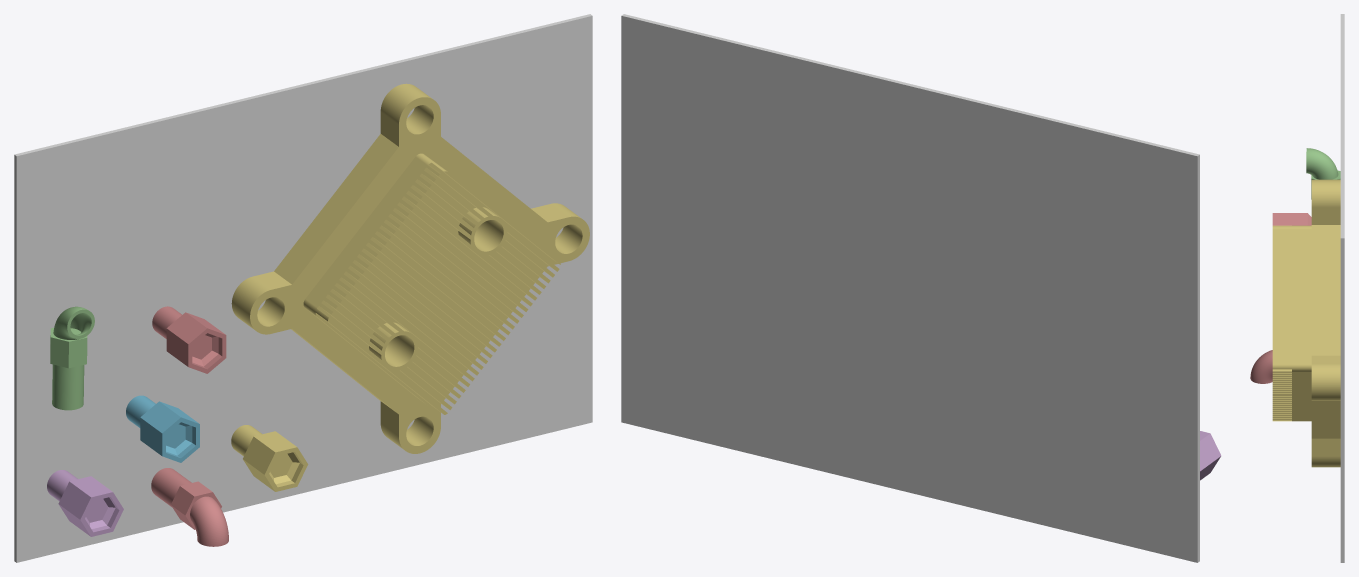
The model's file is pickup_layout.glb.
3 renders of one model, left to right at view 1: azimuth 30°, elevation 25°; view 2: azimuth 150°, elevation 25°; view 3: azimuth 270°, elevation 25°, orthographic. The views are drawn at different scales.
Visible parts, largest first — view 1: world, 1.obj, 4.obj, 0.obj, 6.obj, 3.obj, 5.obj, 2.obj; view 2: world; view 3: 1.obj, world, 4.obj, 0.obj, 5.obj.
Boxes of the visible parts, x1,y1,x2,y2 form: world: (14, 14, 592, 562); 1.obj: (231, 83, 589, 453); 4.obj: (50, 306, 94, 410); 0.obj: (151, 468, 228, 546); 6.obj: (231, 425, 308, 491); 3.obj: (47, 470, 123, 536); 5.obj: (152, 306, 226, 373); 2.obj: (126, 395, 199, 462); world: (621, 14, 1199, 562); 1.obj: (1272, 179, 1340, 467); world: (1340, 14, 1344, 562); 4.obj: (1306, 148, 1340, 199); 0.obj: (1250, 350, 1272, 383); 5.obj: (1272, 213, 1311, 225).
Bounding box in the file's own units: 27.36 × 18.46 × 4.85.
